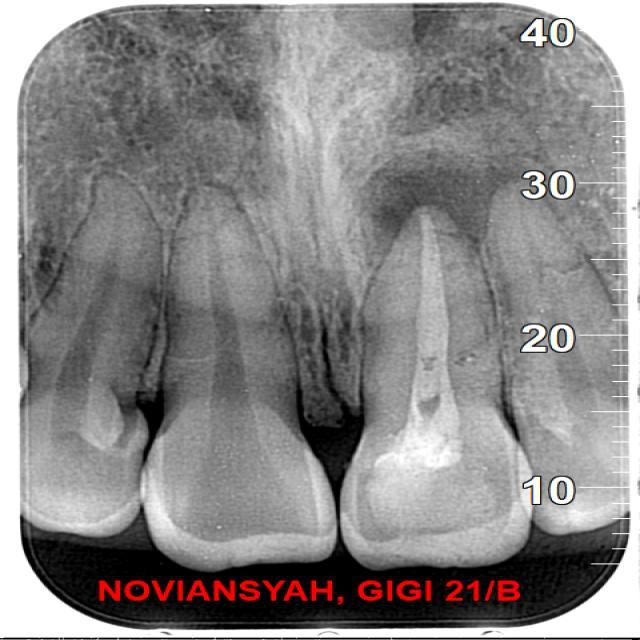individual-tooth-8tto: (335, 199, 536, 569), (145, 195, 339, 564)
